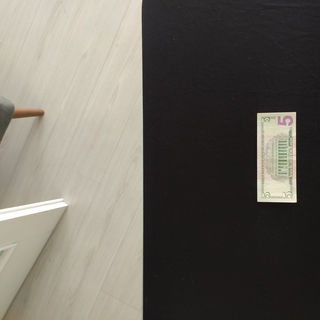5USDBack: (256, 111, 297, 203)
